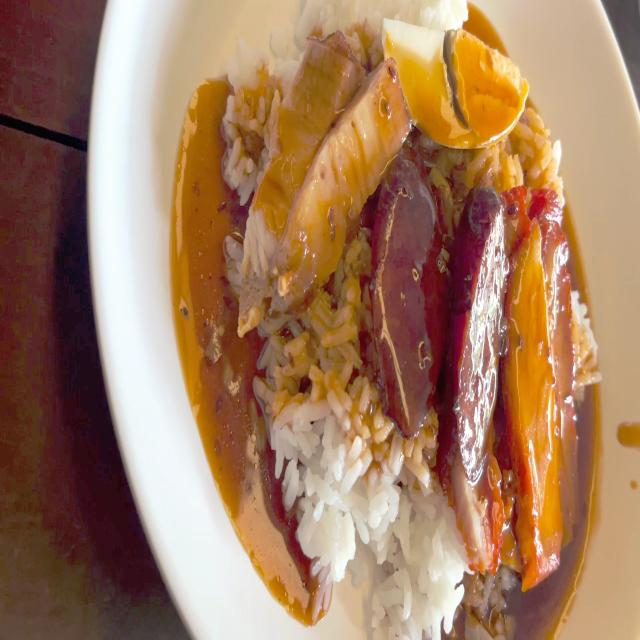boiled_egg: (388, 23, 530, 146)
chainese_sausage: (384, 160, 436, 436), (455, 200, 501, 484)
crispy_pork: (247, 34, 408, 304)
red_pork: (511, 211, 578, 576)
red_pork_and_crispy_pork: (216, 0, 596, 640)
rice: (288, 324, 391, 558), (380, 464, 460, 640)
